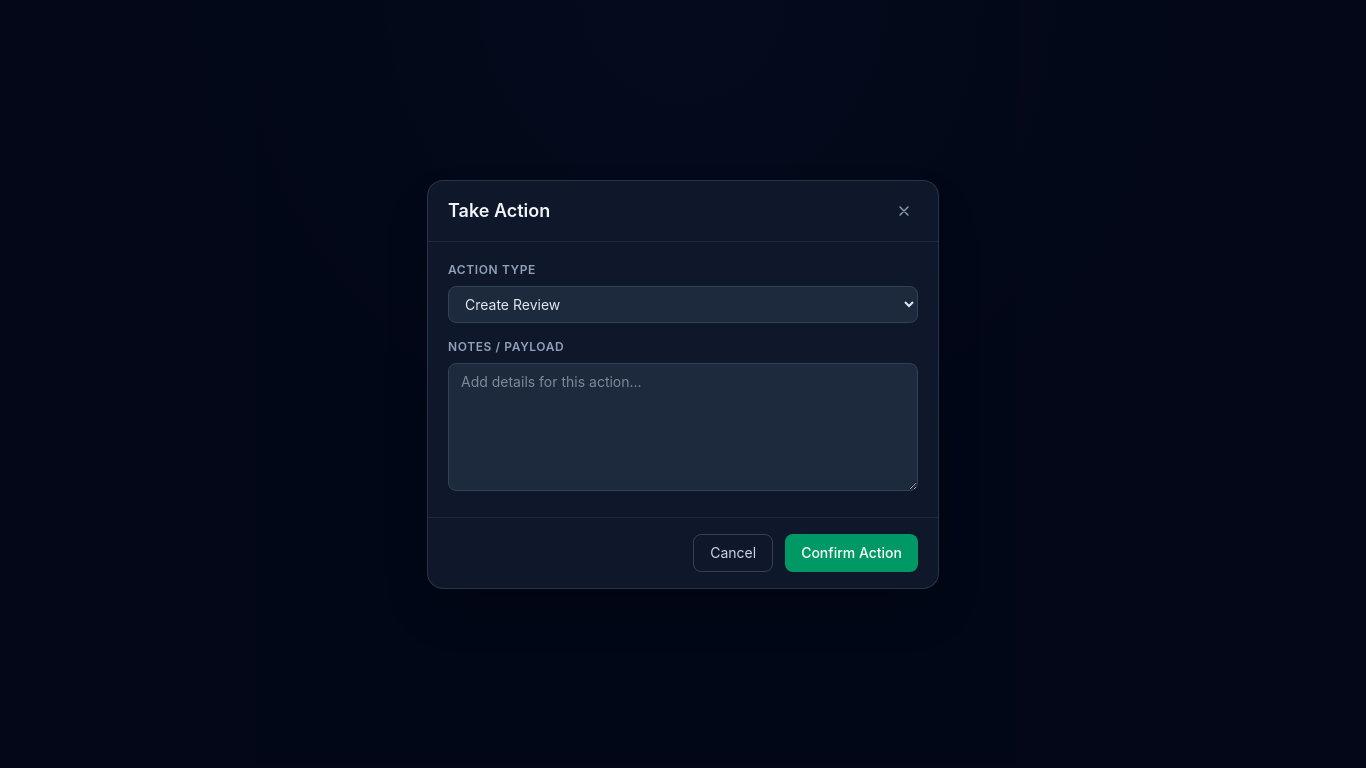
Test: ActionModal › shows Sending… while submitAction is pending
Click the button "Confirm Action" at (852, 552), box [785, 534, 918, 572]
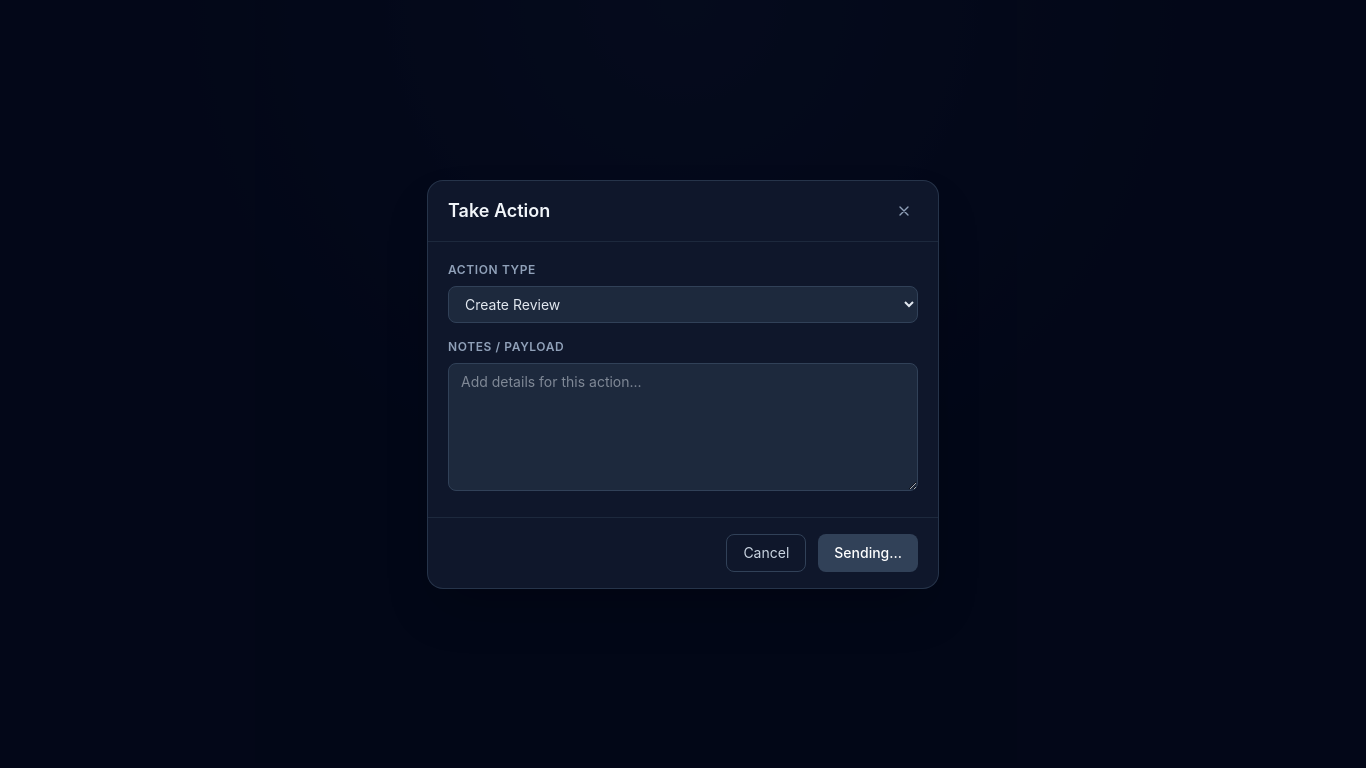
Check: the button "Sending..." is disabled, box [818, 534, 918, 572]
